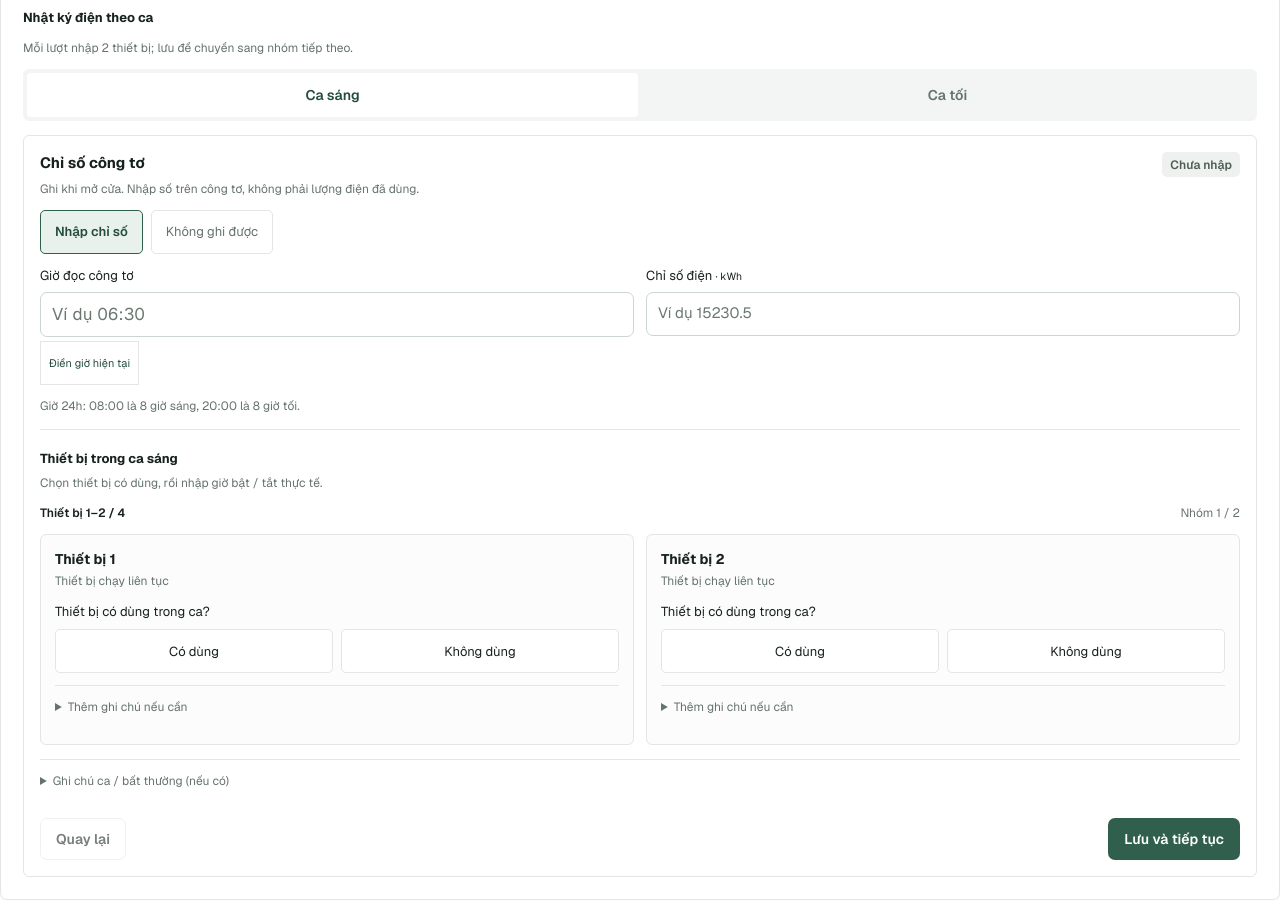
Test: staff electricity entry › handles a connection failure without losing the group or crashing the page
The width and height of the screenshot is (1280, 900).
(page scrolled)
Step 1. Click the radio button labelled "Không dùng" below "Thiết bị 2" → (1086, 651), box [947, 629, 1225, 673]
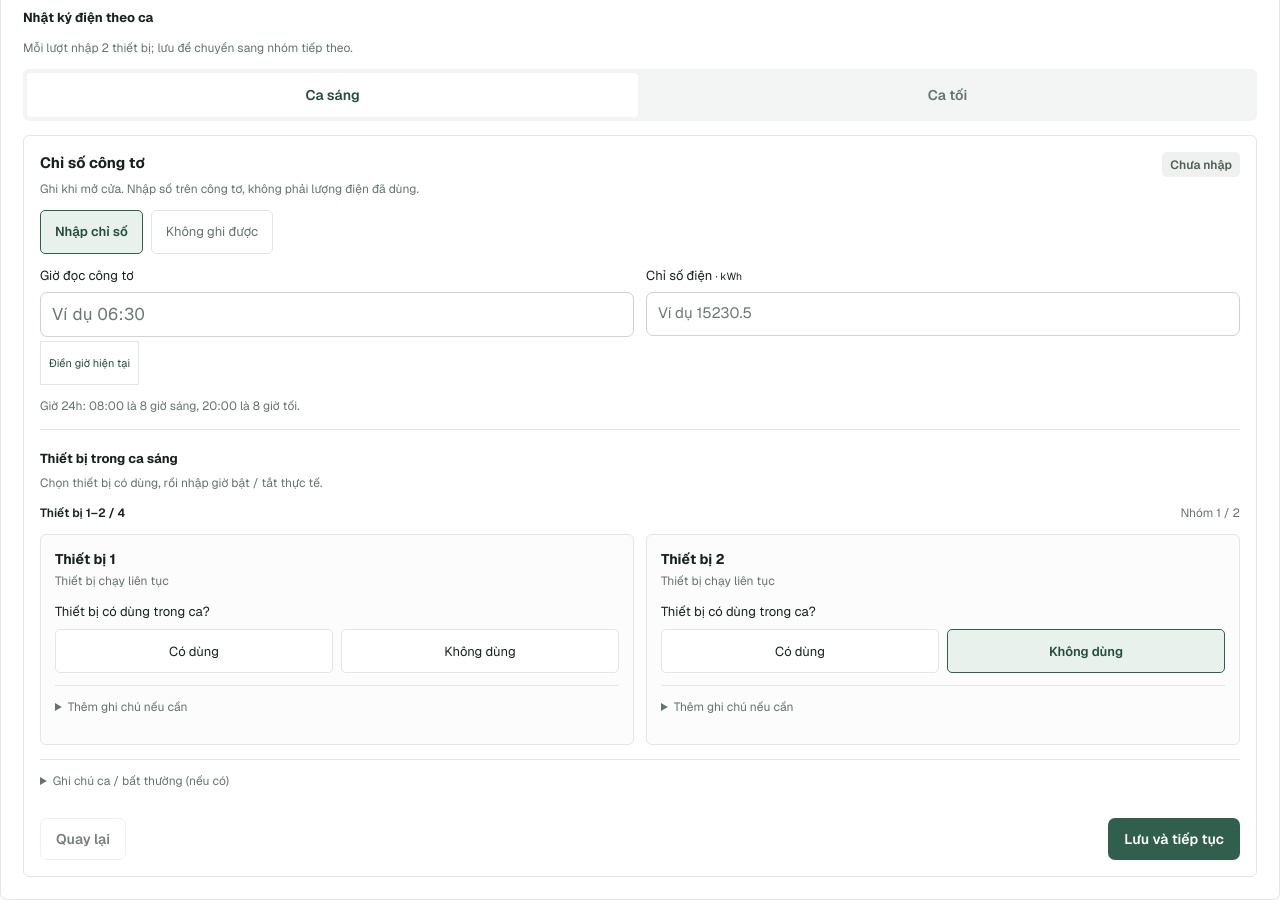
Step 2. Click the button "Lưu và tiếp tục" → (1174, 839), box [1108, 818, 1240, 860]
(page scrolled)
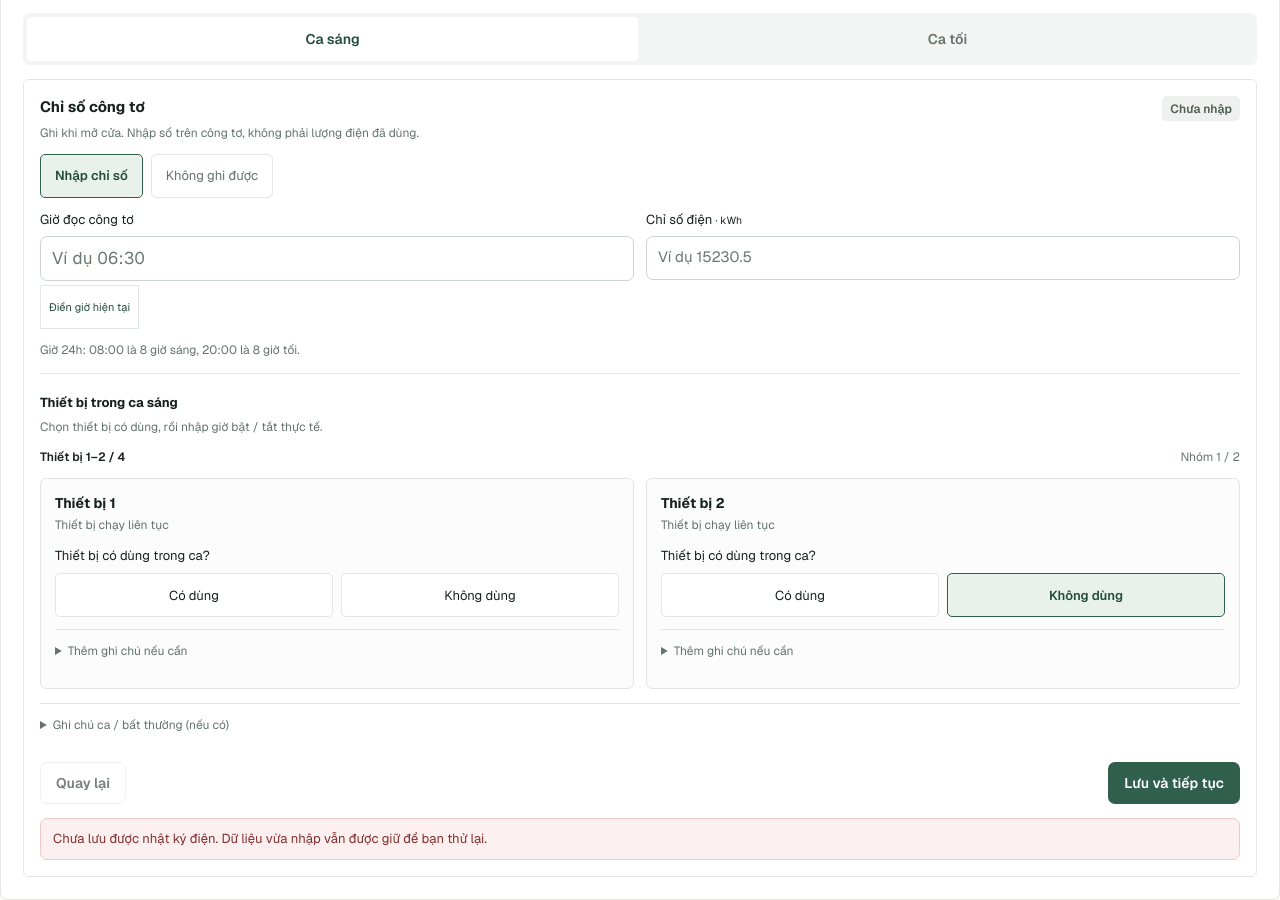
Expected: the message "Chưa lưu được nhật ký điện. Dữ liệu vừa nhập vẫn được giữ để bạn thử lại." is shown, [40, 818, 1240, 860]
